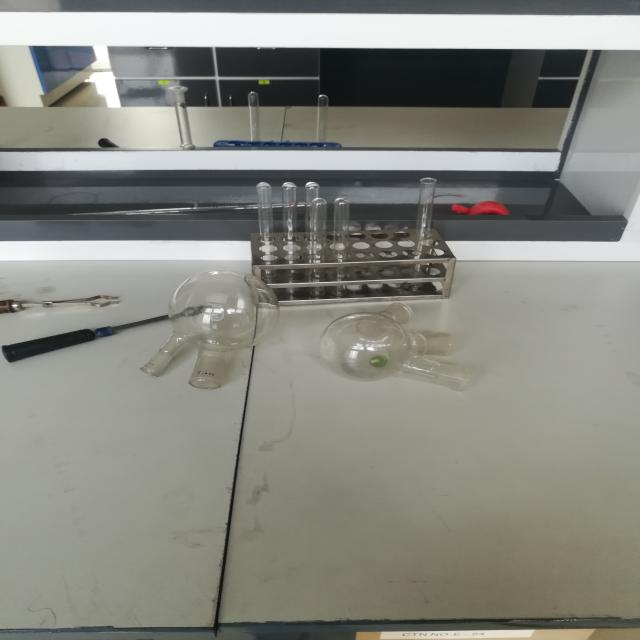Round_Bottom_Flask_Borosilicate_Glass_2_Neck: (142, 260, 275, 411)
Round_Bottom_Flask_Borosilicate_Glass_3_Neck: (316, 286, 510, 430)
